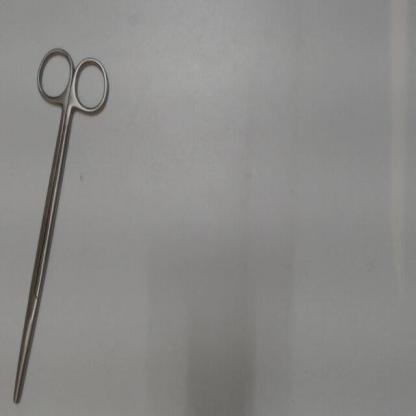9 Metzenbaum Scissors: (9, 39, 113, 408)
